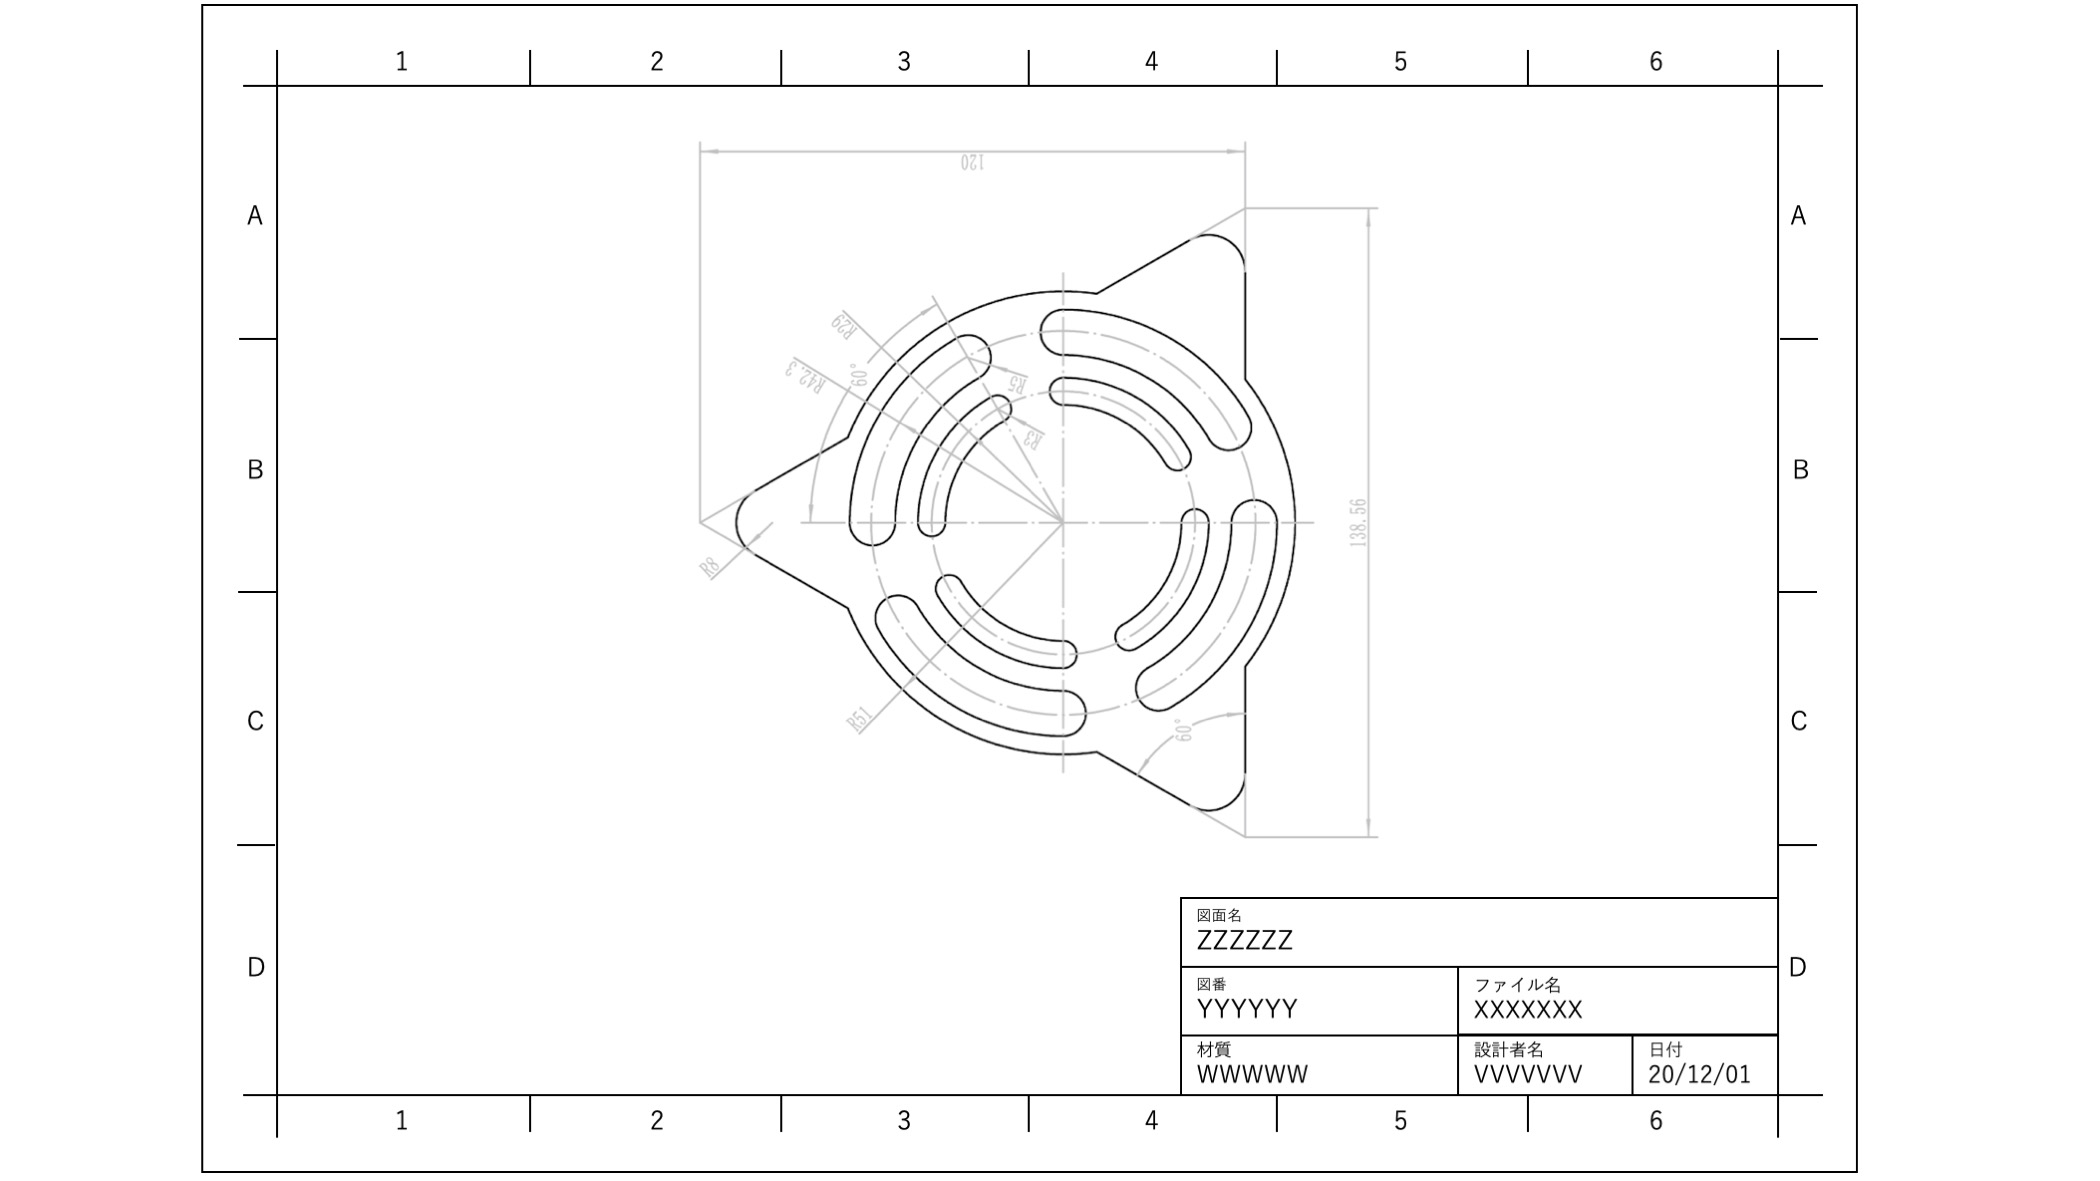round_rectangle: (860, 583, 1092, 753), (1132, 490, 1289, 720), (838, 311, 988, 542), (1033, 301, 1263, 440), (935, 567, 1087, 685), (1034, 376, 1194, 482), (922, 386, 1018, 536), (1111, 503, 1209, 649)
